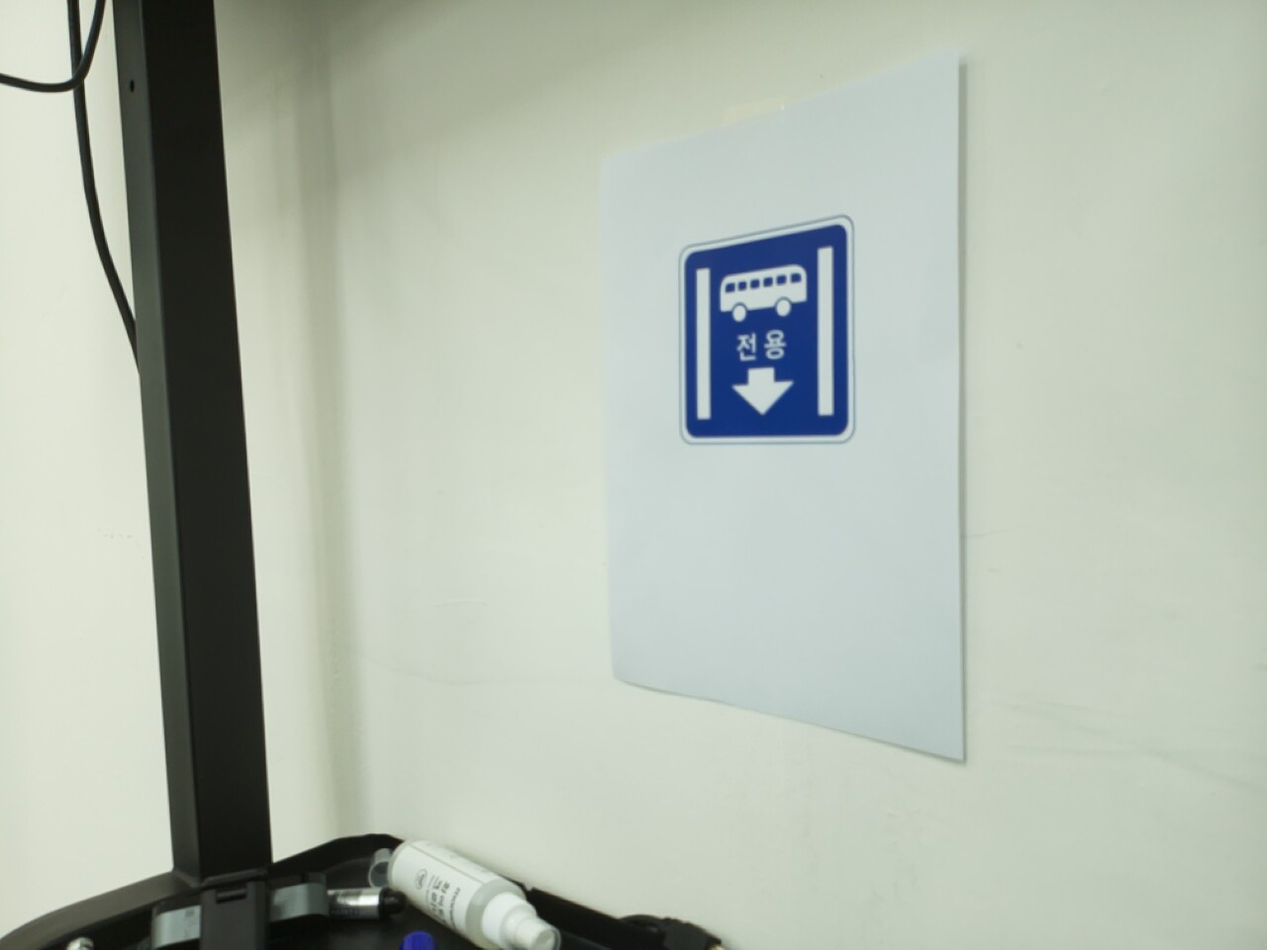bus_only_lane: (677, 217, 855, 446)
